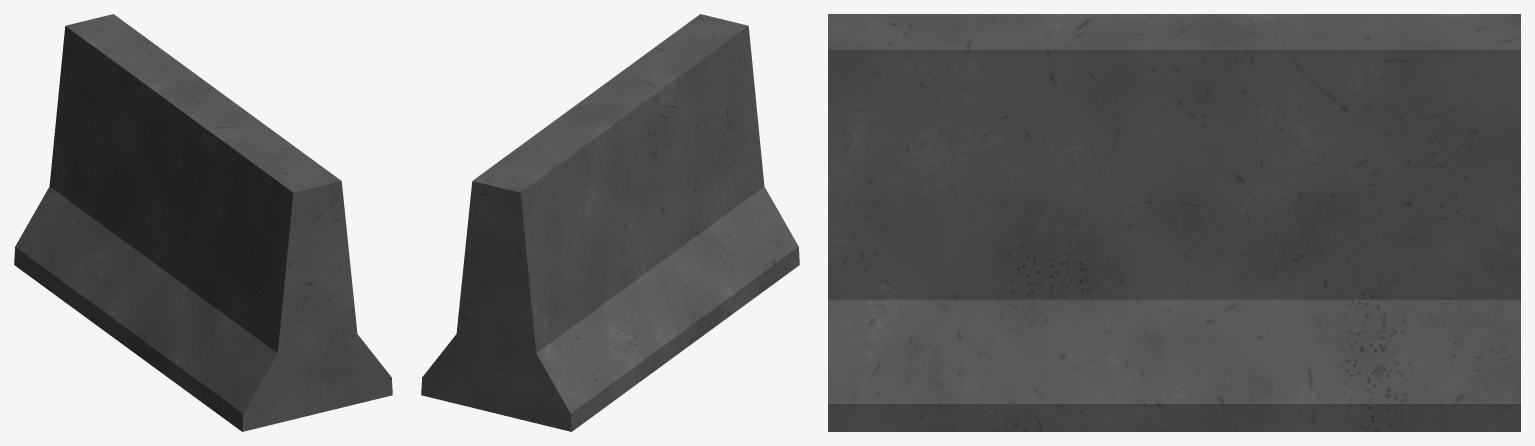
The model's file is barrierLowPoly.obj.
3 renders of one model, left to right at view 1: azimuth 30°, elevation 25°; view 2: azimuth 150°, elevation 25°; view 3: azimuth 270°, elevation 25°, orthographic. The views are drawn at different scales.
Parts seen in each view (by area): view 1: Cube.003; view 2: Cube.003; view 3: Cube.003.
Boxes of the visible parts, bbox=[...] form: Cube.003: bbox=[14, 14, 392, 431]; Cube.003: bbox=[421, 14, 799, 431]; Cube.003: bbox=[828, 14, 1520, 431].
Size of the model in its own units: 0.7619 by 1.1 by 2.
1 material, 1 textured.
